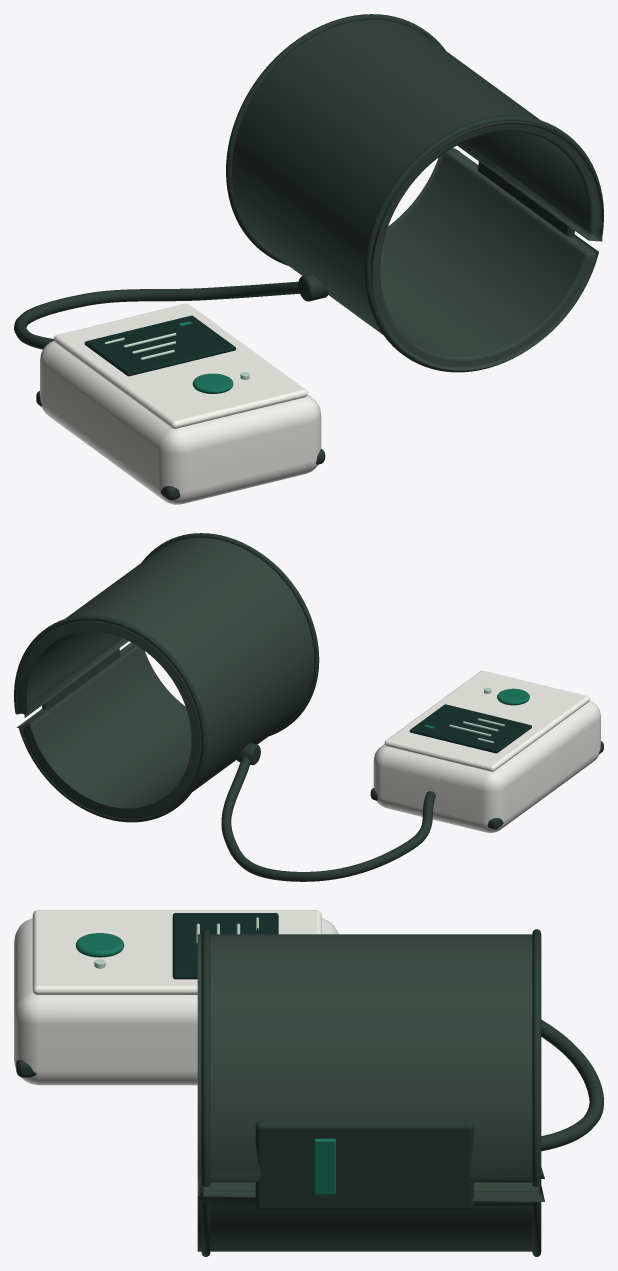
Rendered from service-holter-pressorio.glb.
3 views of the same model, one above another, from view 1: azimuth 30°, elevation 25°; view 2: azimuth 150°, elevation 25°; view 3: azimuth 270°, elevation 25° (orthographic). The views are drawn at different scales.
Parts seen in each view (by area): view 1: Blood_Pressure_Cuff, Holter_Pressorio_White_Case, Holter_Pressorio_Top_Plane, Holter_Pressorio_Glass, Pneumatic_Tube, Cuff_Bound_Edge, Cuff_Bound_Edge.001, Cuff_Closure_Patch, Holter_Pressorio_Action_Button; view 2: Blood_Pressure_Cuff, Holter_Pressorio_White_Case, Holter_Pressorio_Top_Plane, Pneumatic_Tube, Holter_Pressorio_Glass, Cuff_Bound_Edge.001, Cuff_Bound_Edge, Cuff_Closure_Patch; view 3: Blood_Pressure_Cuff, Cuff_Closure_Patch, Holter_Pressorio_White_Case, Holter_Pressorio_Top_Plane, Holter_Pressorio_Glass, Cuff_Bound_Edge, Cuff_Bound_Edge.001, Pneumatic_Tube, Cuff_Emerald_Index, Holter_Pressorio_Action_Button.
Part boxes in pixels (bbox=[...]): Blood_Pressure_Cuff: bbox=[232, 19, 603, 370]; Holter_Pressorio_White_Case: bbox=[40, 341, 321, 504]; Holter_Pressorio_Top_Plane: bbox=[53, 303, 307, 428]; Holter_Pressorio_Glass: bbox=[84, 315, 235, 376]; Pneumatic_Tube: bbox=[14, 281, 299, 349]; Cuff_Bound_Edge: bbox=[364, 115, 603, 372]; Cuff_Bound_Edge.001: bbox=[226, 14, 459, 265]; Cuff_Closure_Patch: bbox=[478, 161, 574, 237]; Holter_Pressorio_Action_Button: bbox=[192, 373, 233, 393]; Blood_Pressure_Cuff: bbox=[16, 537, 314, 818]; Holter_Pressorio_White_Case: bbox=[373, 701, 600, 832]; Holter_Pressorio_Top_Plane: bbox=[384, 670, 589, 771]; Pneumatic_Tube: bbox=[221, 756, 435, 881]; Holter_Pressorio_Glass: bbox=[409, 704, 531, 753]; Cuff_Bound_Edge.001: bbox=[14, 615, 207, 822]; Cuff_Bound_Edge: bbox=[141, 533, 319, 736]; Cuff_Closure_Patch: bbox=[42, 648, 120, 709]; Blood_Pressure_Cuff: bbox=[197, 934, 544, 1251]; Cuff_Closure_Patch: bbox=[255, 1121, 473, 1209]; Holter_Pressorio_White_Case: bbox=[14, 918, 338, 1085]; Holter_Pressorio_Top_Plane: bbox=[32, 910, 321, 995]; Holter_Pressorio_Glass: bbox=[172, 913, 278, 979]; Cuff_Bound_Edge: bbox=[201, 929, 210, 1256]; Cuff_Bound_Edge.001: bbox=[532, 929, 541, 1256]; Pneumatic_Tube: bbox=[541, 1019, 603, 1151]; Cuff_Emerald_Index: bbox=[314, 1138, 335, 1194]; Holter_Pressorio_Action_Button: bbox=[75, 933, 124, 957].
Size of the model in its own units: 3.22 by 1.5 by 2.67.
